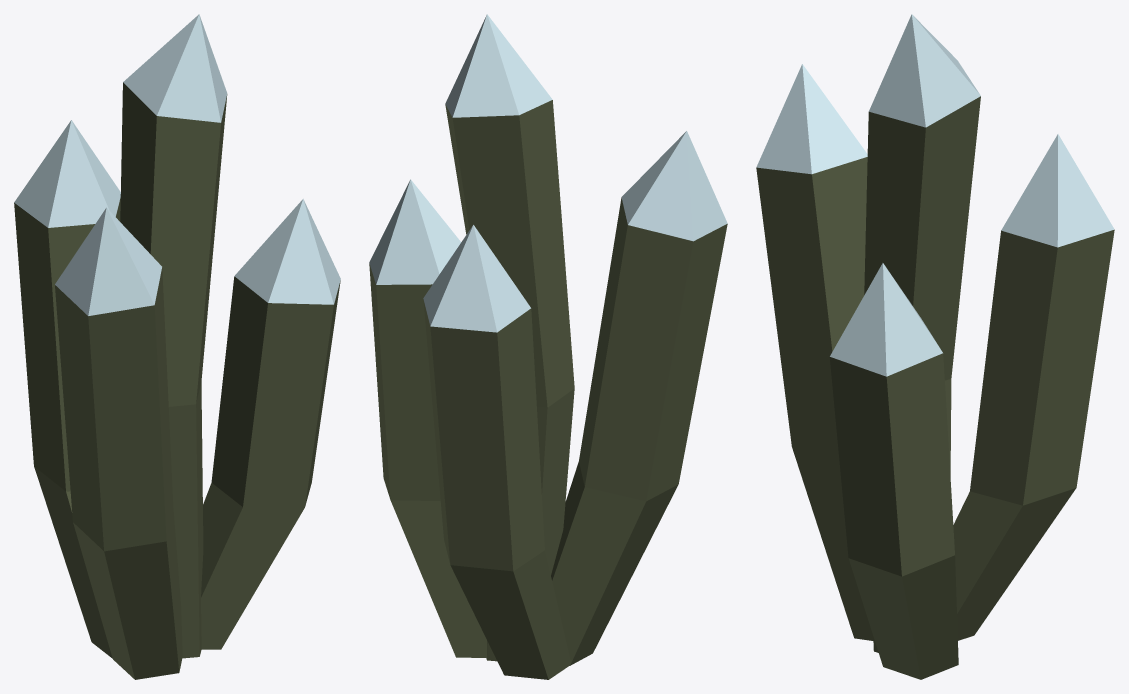
File: SM_Env_Western_Cactus_02_Snow.fbx
3 renders of one model, left to right at view 1: azimuth 30°, elevation 25°; view 2: azimuth 150°, elevation 25°; view 3: azimuth 270°, elevation 25°, orthographic. The views are drawn at different scales.
Visible parts, largest first — view 1: SM_Env_Western_Cactus_02_Snow; view 2: SM_Env_Western_Cactus_02_Snow; view 3: SM_Env_Western_Cactus_02_Snow.
Boxes of the visible parts, bbox=[...] form: SM_Env_Western_Cactus_02_Snow: bbox=[14, 14, 340, 679]; SM_Env_Western_Cactus_02_Snow: bbox=[369, 14, 727, 679]; SM_Env_Western_Cactus_02_Snow: bbox=[756, 14, 1114, 679].
Size of the model in its own units: 39.27 by 77.65 by 38.7.
Materials: 1 (1 with a texture image).
